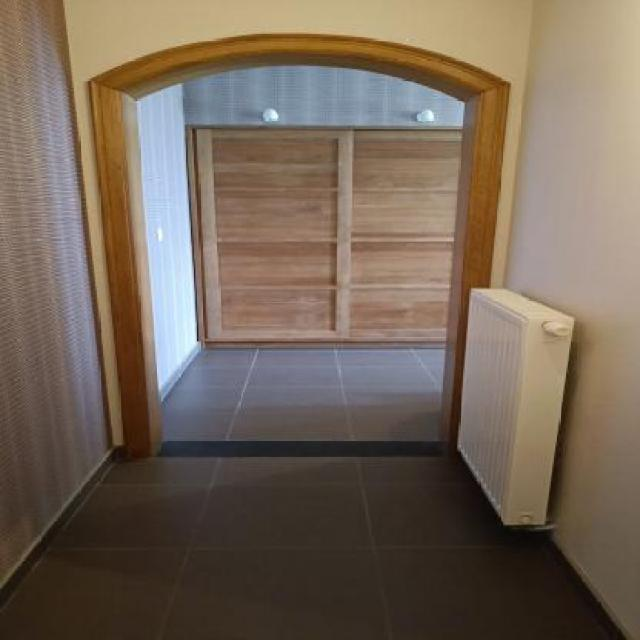Floor: (0, 348, 611, 640)
